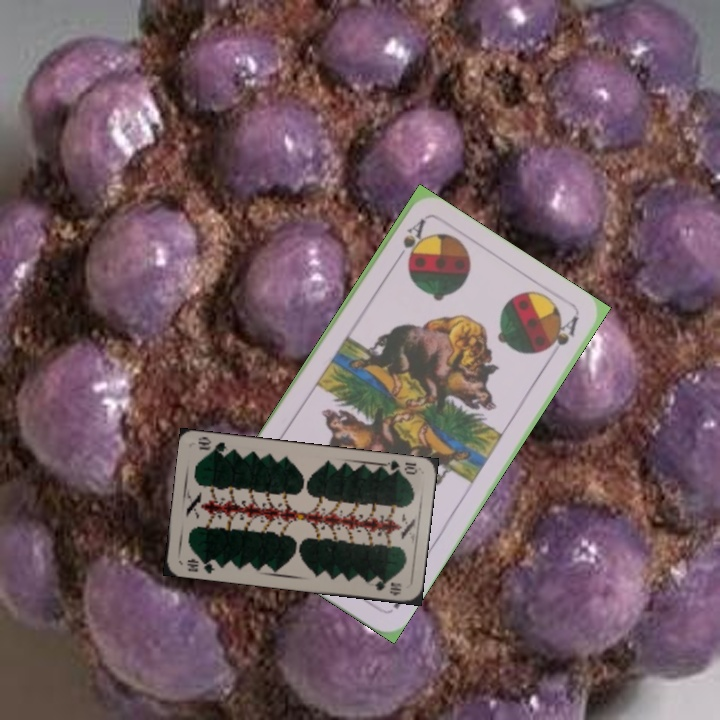G10: (380, 456, 420, 477), (183, 555, 217, 576)
SA: (389, 215, 428, 267)
